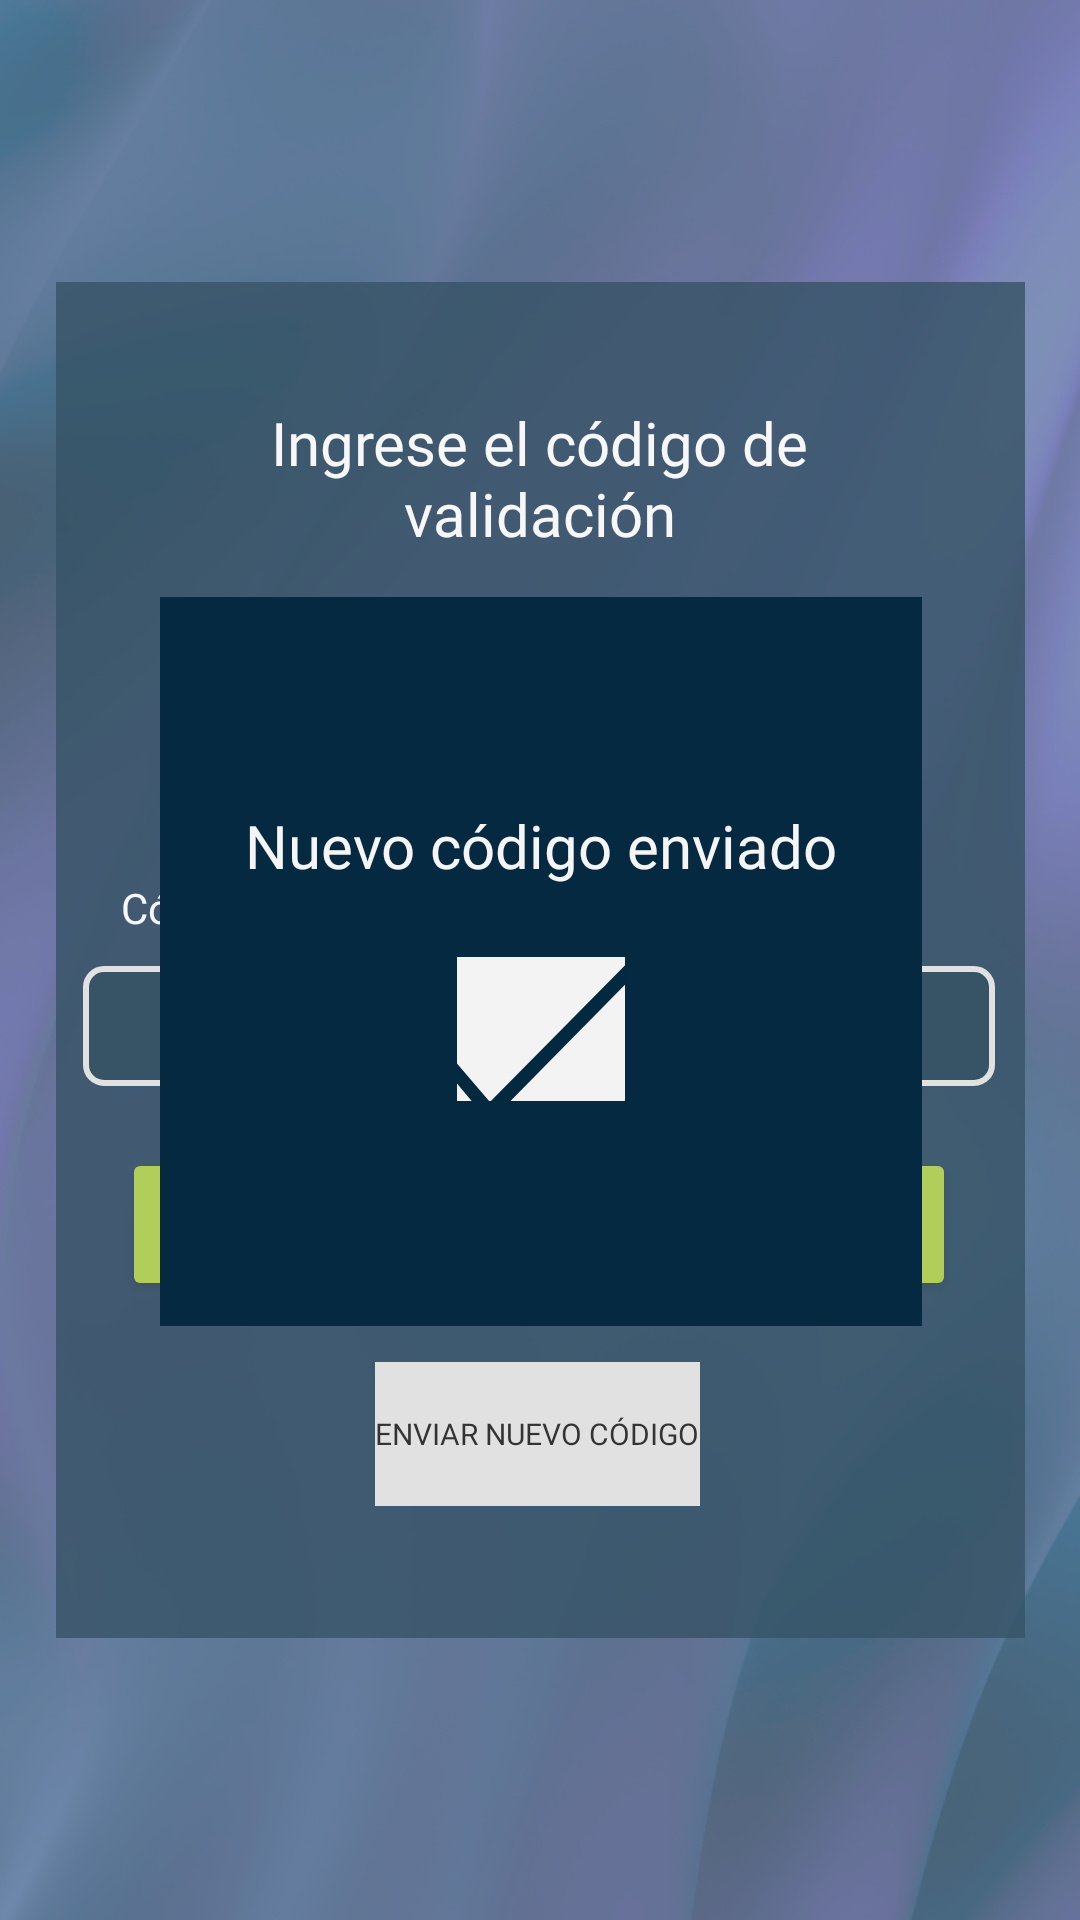

Icon bounding boxes for this 1080w x 1920h phone screenshot, format box=[x1, y1, x2, y2]:
checkbox: box=[457, 957, 625, 1101]
